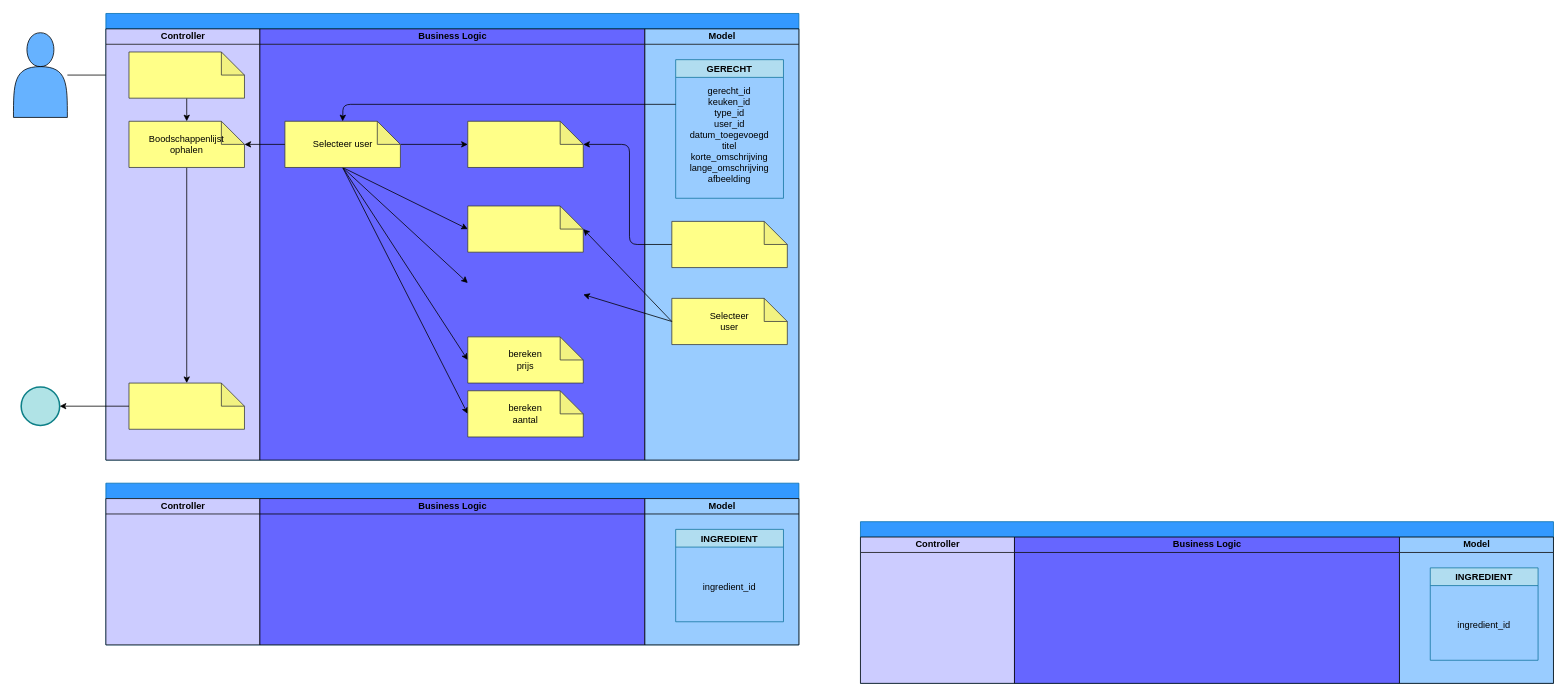
The diagram is 1567 pixels wide and 697 high, and some of its shapes have lost their labels. Each missing label, with the centre of its shape:
"Boodschappenlijst tonen" goes at point (186, 405).
"Initialisatie" goes at point (186, 74).
"ophalen ingredient" goes at point (525, 144).
"ophalen user" goes at point (525, 228).
"Selecteer ingredient" goes at point (729, 244).
